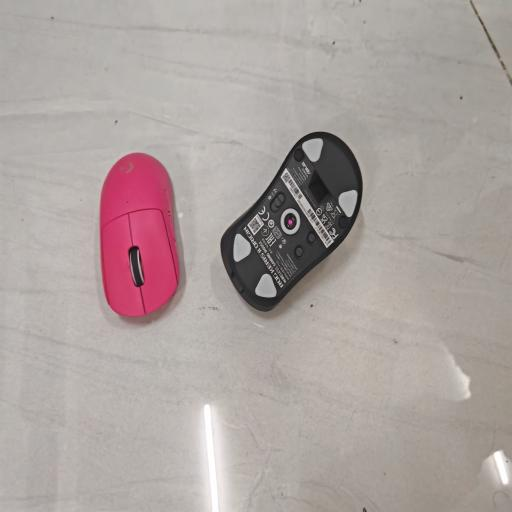mouse: (221, 132, 362, 311), (100, 153, 179, 316)
